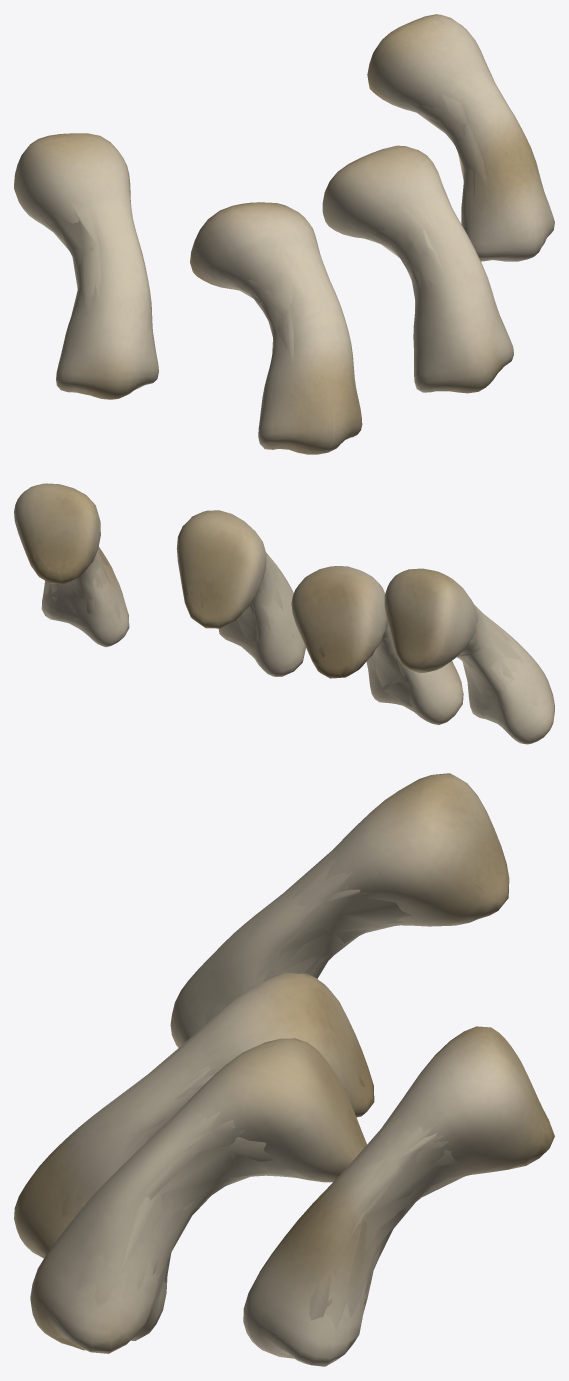
Rendered from BL 2nd Phalanx.fbx.
3 views of the same model, one above another, from view 1: azimuth 30°, elevation 25°; view 2: azimuth 150°, elevation 25°; view 3: azimuth 270°, elevation 25° (orthographic). The views are drawn at different scales.
Visible parts, largest first — view 1: BL 2nd Phalanx high, BL 2nd Phalanx, BL 2nd Phalanx low; view 2: BL 2nd Phalanx high, BL 2nd Phalanx, BL 2nd Phalanx low; view 3: BL 2nd Phalanx high, BL 2nd Phalanx low, BL 2nd Phalanx.
Part boxes in pixels (<box>): BL 2nd Phalanx high: <box>14,14,554,454</box>; BL 2nd Phalanx: <box>40,63,549,449</box>; BL 2nd Phalanx low: <box>54,93,491,395</box>; BL 2nd Phalanx high: <box>14,483,554,744</box>; BL 2nd Phalanx: <box>32,547,538,726</box>; BL 2nd Phalanx low: <box>45,549,523,711</box>; BL 2nd Phalanx high: <box>14,773,554,1366</box>; BL 2nd Phalanx low: <box>120,859,464,1320</box>; BL 2nd Phalanx: <box>33,850,546,1349</box>.
Bounding box in the file's own units: 7.79 × 3.96 × 4.78.
